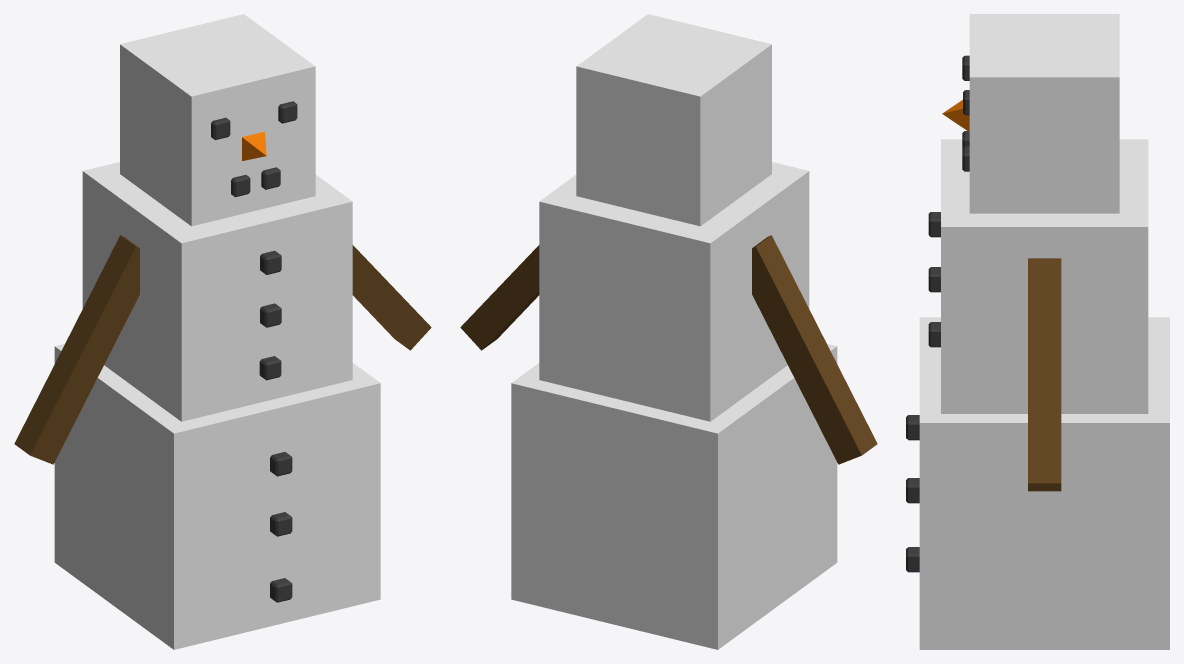
The picture shows the model from 3 angles, left to right: view 1: azimuth 30°, elevation 25°; view 2: azimuth 150°, elevation 25°; view 3: azimuth 270°, elevation 25°; orthographic projection. The views are drawn at different scales.
Parts seen in each view (by area): view 1: Cube, Cube.002, Cube.001; view 2: Cube, Cube.001, Cube.002; view 3: Cube, Cube.002, Cube.001.
Part boxes in pixels (bbox=[...]): Cube: bbox=[54, 344, 380, 649]; Cube.002: bbox=[14, 14, 431, 602]; Cube.001: bbox=[82, 162, 352, 421]; Cube: bbox=[511, 344, 837, 649]; Cube.001: bbox=[539, 162, 809, 421]; Cube.002: bbox=[460, 14, 877, 464]; Cube: bbox=[919, 317, 1169, 649]; Cube.002: bbox=[906, 14, 1119, 572]; Cube.001: bbox=[941, 139, 1148, 413].
Bounding box in the file's own units: 7.01 × 8.77 × 3.8.
1 material, 1 textured.
